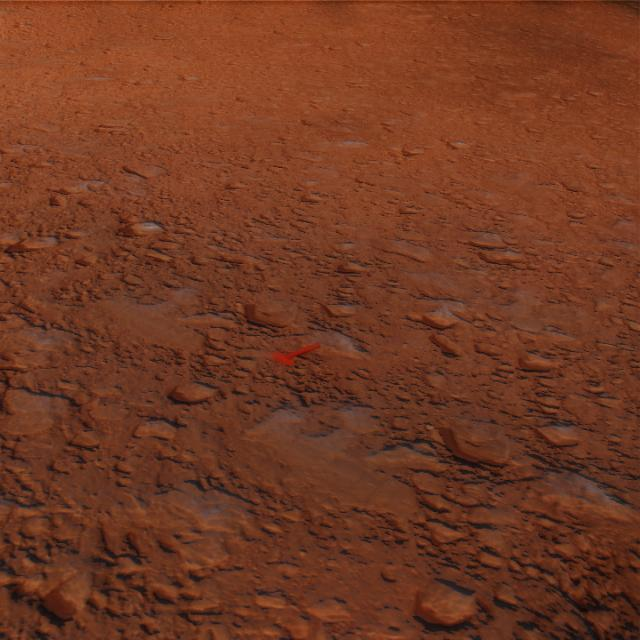newhammer: (272, 342, 320, 367)
